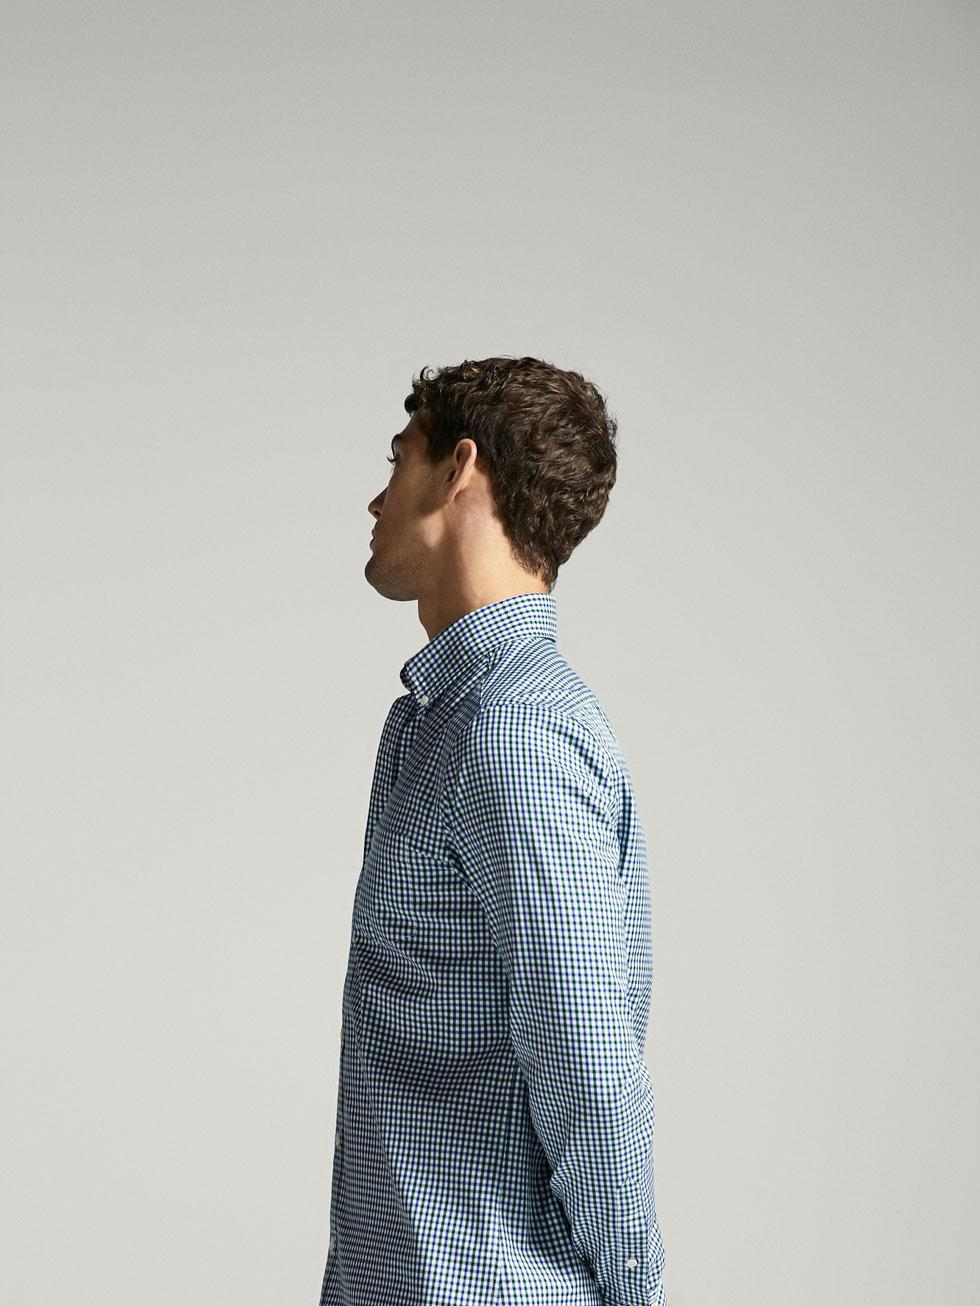teeshirt: (321, 593, 662, 1306)
